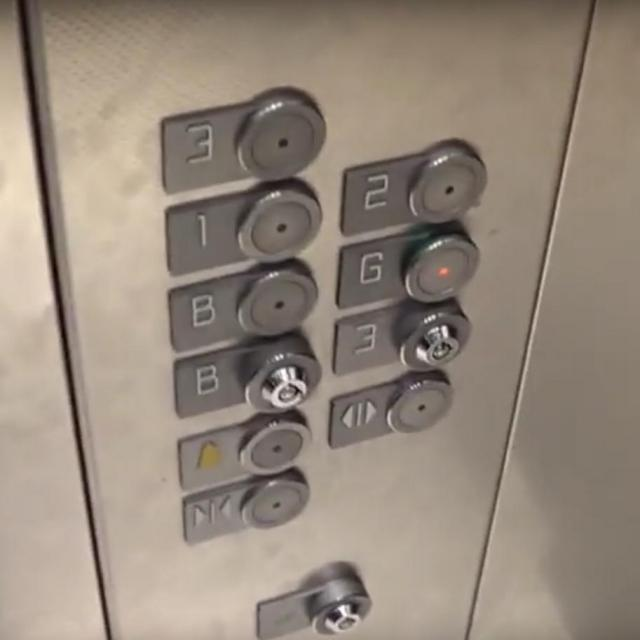1: (162, 178, 324, 278)
2: (337, 136, 489, 236)
3: (157, 83, 331, 196), (329, 298, 474, 378)
B: (164, 256, 320, 355), (170, 334, 320, 420)
G: (334, 223, 483, 310)
alarm: (174, 406, 312, 494)
blur: (253, 572, 374, 640)
close: (178, 465, 312, 551)
open: (326, 368, 454, 451)
